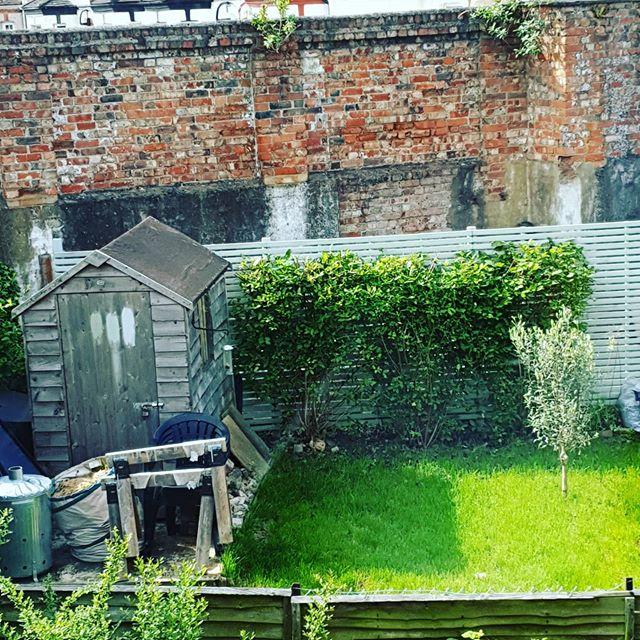building: (1, 223, 247, 584)
grass: (265, 450, 640, 596)
tree: (495, 316, 598, 477)
